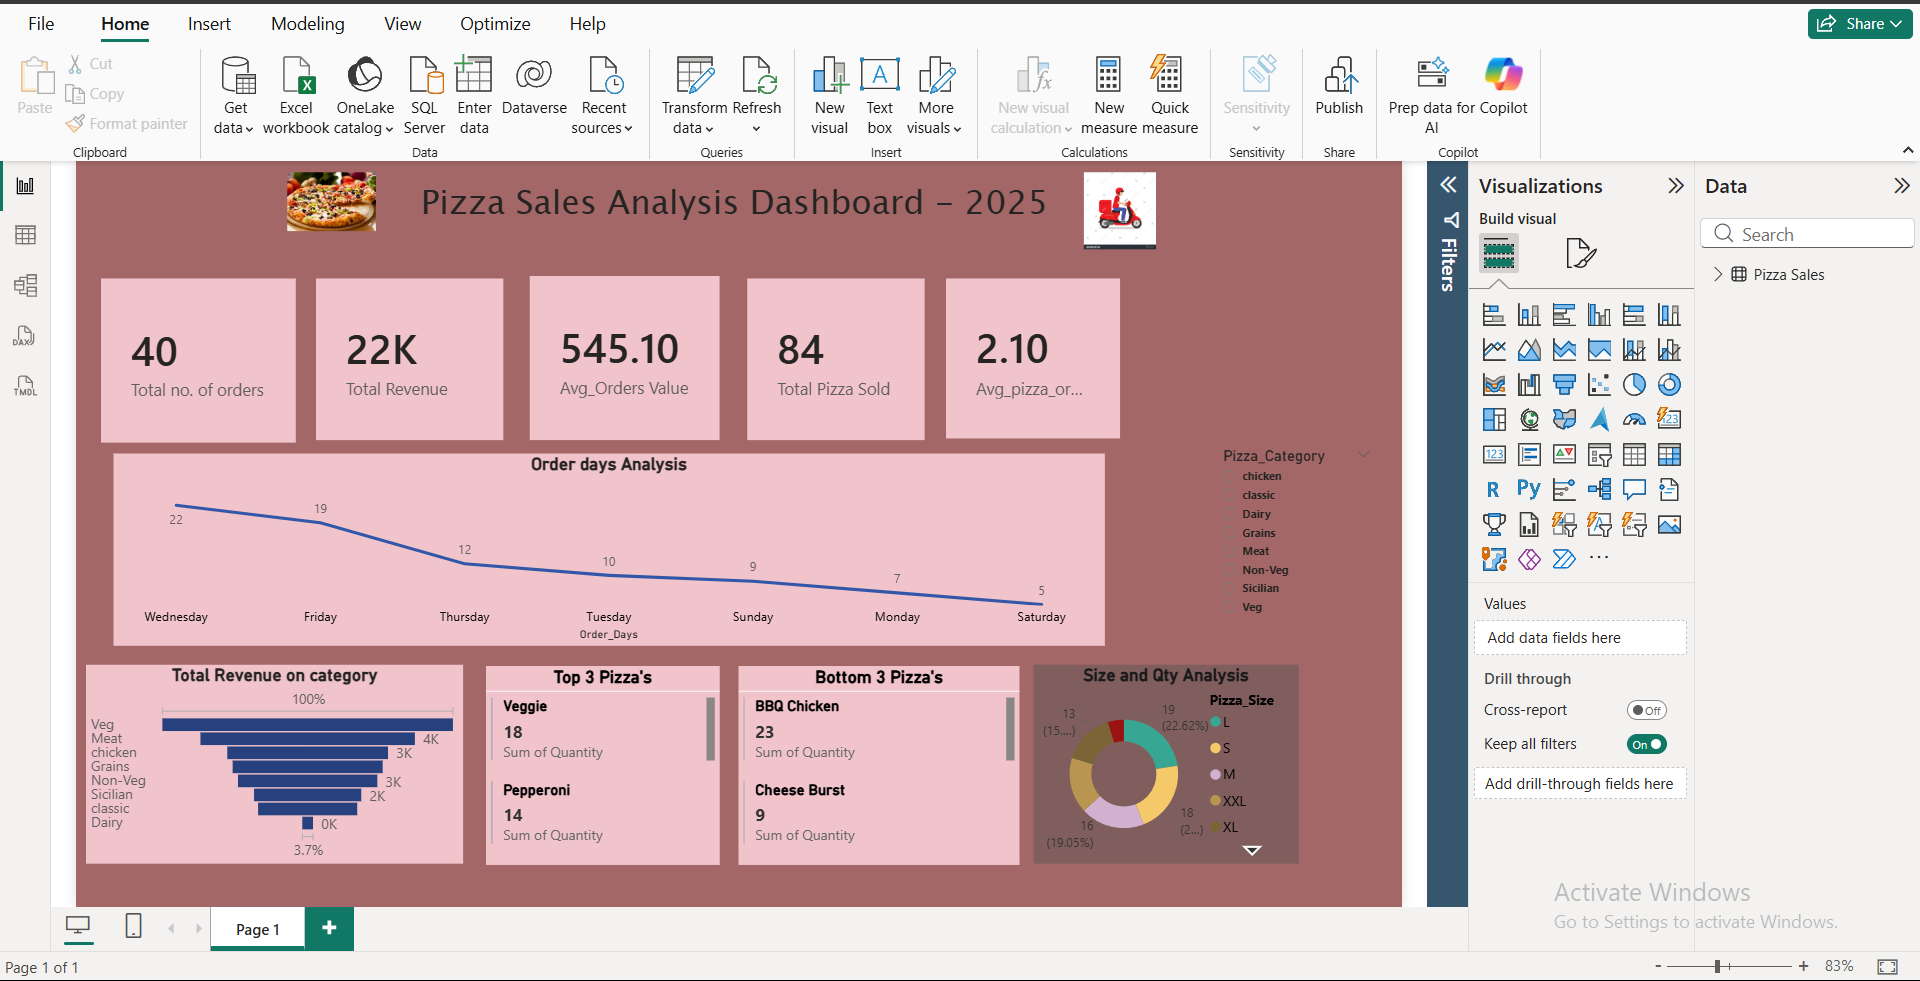

This screenshot's page, from the dashboard's own definition file:
{"tool":"powerbi","page":{"name":"Page 1","canvas":[1280,720],"ordinal":0},"visuals":[{"type":"cardVisual","fields":{"Data":["Pizza Sales.Total Revenue"]},"box":[231.6,113.4,181,155.6],"z":0},{"type":"cardVisual","fields":{"Data":["Pizza Sales.Avg_Orders Value"]},"box":[437.9,111,183.4,158],"z":1000},{"type":"cardVisual","fields":{"Data":["Pizza Sales.Total Pizza Sold"]},"box":[647.9,113.4,171.3,155.6],"z":2000},{"type":"cardVisual","fields":{"Data":["Pizza Sales.Avg_pizza_ordered"]},"box":[839.7,113.4,167.7,154.4],"z":3000},{"type":"textbox","box":[202.8,11.3,866.2,78.9],"z":4000},{"type":"cardVisual","fields":{"Data":["Pizza Sales.Total no. of orders"]},"box":[24.1,113.4,188.2,158],"z":5000},{"type":"image","box":[203.3,11.1,85.6,56.7],"z":6000},{"type":"image","box":[968.9,11.1,77.8,74.4],"z":7000},{"type":"lineChart","title":"Order days Analysis","fields":{"Category":["Pizza Sales.Order_Days"],"Y":["Sum(Pizza Sales.Quantity)"]},"box":[36.2,282.3,956.7,185.8],"z":8000},{"type":"funnel","title":"Total Revenue on category","fields":{"Category":["Pizza Sales.Pizza_Category"],"Y":["Sum(Pizza Sales.Total_Price)"]},"box":[9.7,486.2,364.3,191.8],"z":9000},{"type":"slicer","fields":{"Values":["Pizza Sales.Pizza_Category"]},"box":[1094.2,271.4,167.7,191.8],"z":10000},{"type":"multiRowCard","title":"Top 3 Pizza''s","fields":{"Values":["Pizza Sales.Pizza_Name","Sum(Pizza Sales.Quantity)"]},"box":[395.7,487.4,225.6,191.8],"z":11000},{"type":"donutChart","title":"Size and Qty Analysis","fields":{"Category":["Pizza Sales.Pizza_Size"],"Y":["Sum(Pizza Sales.Quantity)"]},"box":[924.1,486.2,255.8,191.8],"z":12000},{"type":"multiRowCard","title":"Bottom 3 Pizza''s","fields":{"Values":["Pizza Sales.Pizza_Name","Sum(Pizza Sales.Quantity)"]},"box":[639.4,487.4,271.4,191.8],"z":12001}]}

Visuals, with their boxes on the page's 1280x720 design canvas (x1, y1, x2, y2). These are canvas units, not pixel positions in the 1920x981 screenshot, which may show the page scaled, cropped or inside an application window:
cardVisual - Pizza Sales.Total Revenue: detection(232, 113, 413, 269)
cardVisual - Pizza Sales.Avg_Orders Value: detection(438, 111, 621, 269)
cardVisual - Pizza Sales.Total Pizza Sold: detection(648, 113, 819, 269)
cardVisual - Pizza Sales.Avg_pizza_ordered: detection(840, 113, 1007, 268)
textbox: detection(203, 11, 1069, 90)
cardVisual - Pizza Sales.Total no. of orders: detection(24, 113, 212, 271)
image: detection(203, 11, 289, 68)
image: detection(969, 11, 1047, 86)
"Order days Analysis" lineChart: detection(36, 282, 993, 468)
"Total Revenue on category" funnel: detection(10, 486, 374, 678)
slicer - Pizza Sales.Pizza_Category: detection(1094, 271, 1262, 463)
"Top 3 Pizza''s" multiRowCard: detection(396, 487, 621, 679)
"Size and Qty Analysis" donutChart: detection(924, 486, 1180, 678)
"Bottom 3 Pizza''s" multiRowCard: detection(639, 487, 911, 679)
